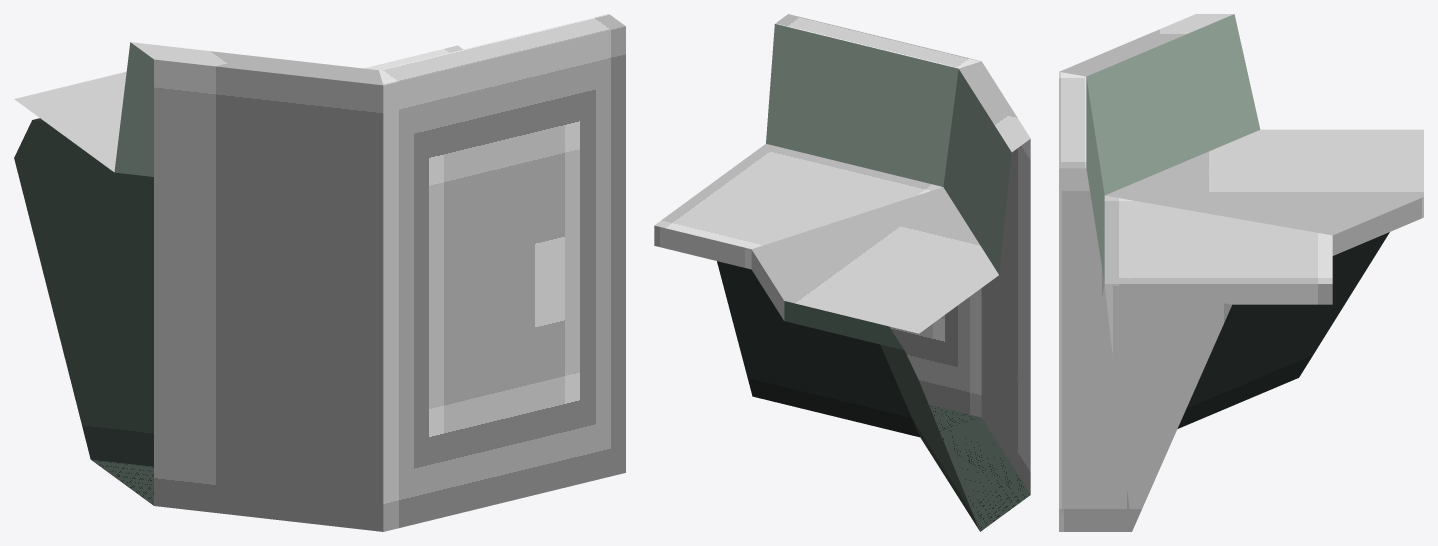
The model's file is run_desk_inside_bend_a_0_m.obj.
The picture shows the model from 3 angles, left to right: view 1: azimuth 30°, elevation 25°; view 2: azimuth 150°, elevation 25°; view 3: azimuth 270°, elevation 25°; orthographic projection. The views are drawn at different scales.
Bounding box in the file's own units: 1 × 1.1 × 1.
